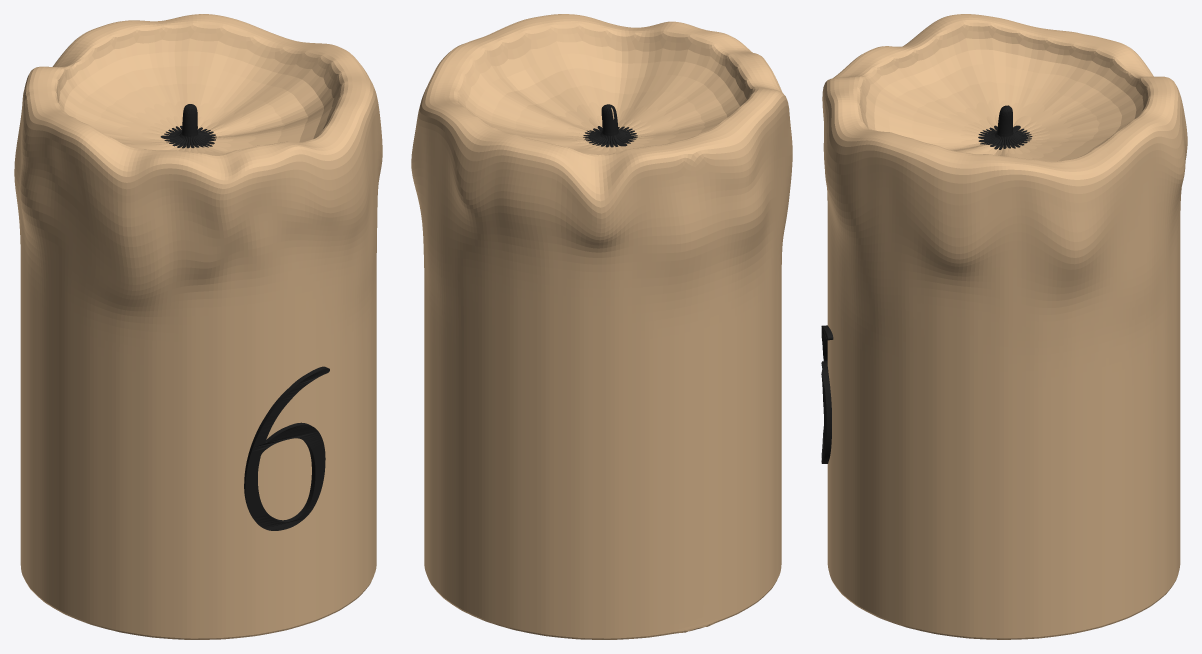
The model's file is Candle-6.fbx.
3 views of the same model, side by side, from view 1: azimuth 30°, elevation 25°; view 2: azimuth 150°, elevation 25°; view 3: azimuth 270°, elevation 25° (orthographic).
Parts seen in each view (by area): view 1: Candle, Text; view 2: Candle; view 3: Candle, Text.
Part boxes in pixels (bbox=[...]): Candle: bbox=[14, 14, 382, 639]; Text: bbox=[244, 366, 329, 530]; Candle: bbox=[411, 14, 792, 639]; Candle: bbox=[822, 14, 1187, 639]; Text: bbox=[821, 325, 833, 463].
Bounding box in the file's own units: 41.75 × 60.84 × 41.42.
